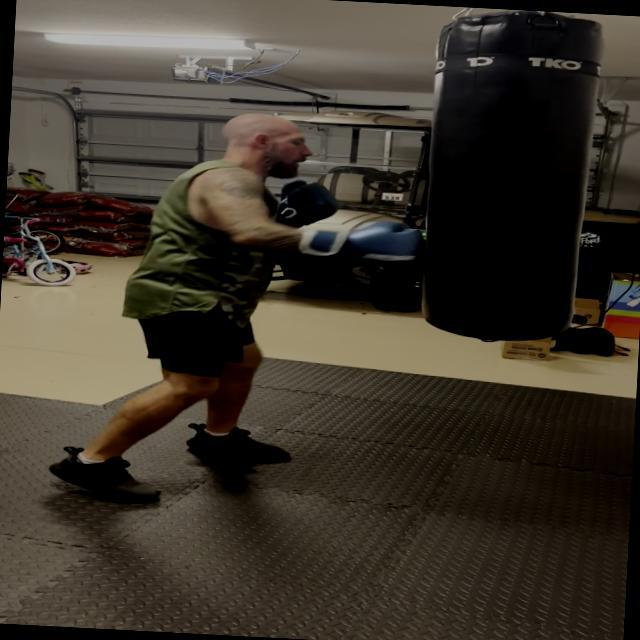bag: (410, 6, 612, 352)
hook: (183, 100, 472, 288)
